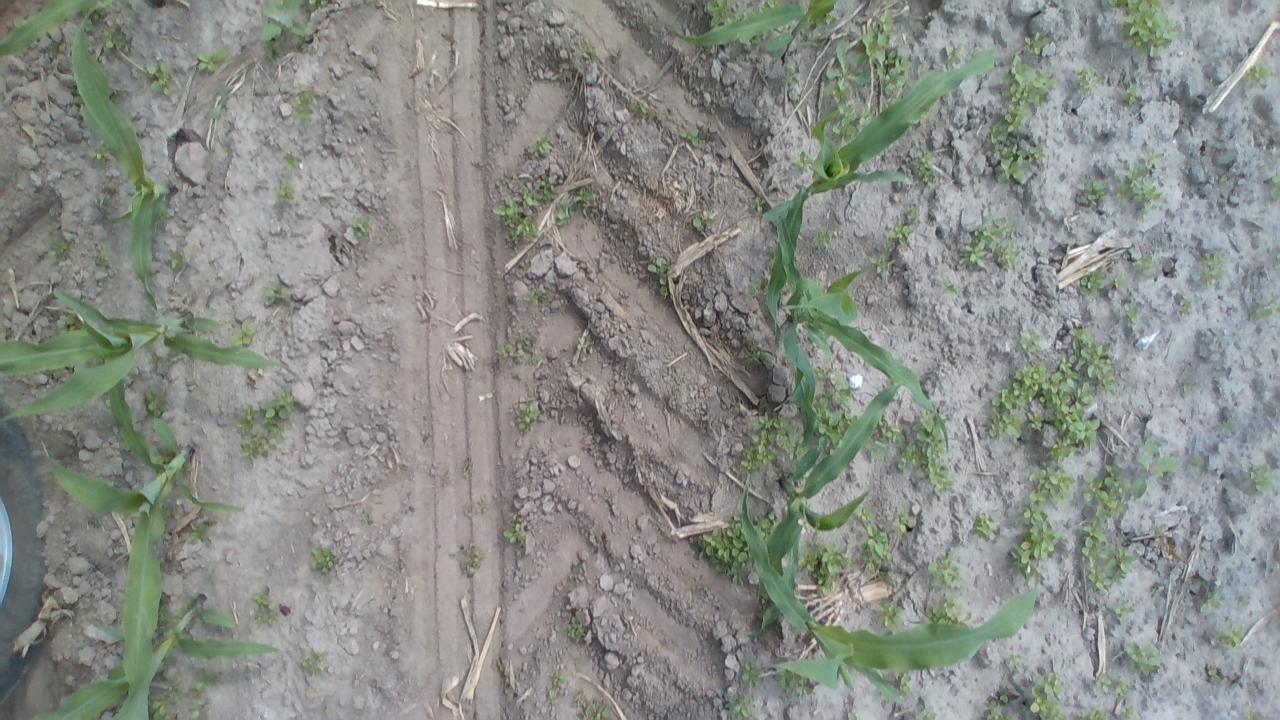Maize: (738, 470, 1038, 708), (766, 50, 995, 342), (44, 381, 245, 707), (773, 213, 951, 454), (746, 382, 902, 636), (1, 288, 280, 424), (32, 587, 284, 720), (71, 2, 173, 312), (661, 1, 836, 52), (0, 0, 104, 56)
Weeds: (989, 362, 1101, 574), (1080, 464, 1142, 596), (693, 512, 777, 584), (900, 415, 953, 490), (985, 110, 1049, 168), (982, 673, 1060, 720), (1068, 324, 1120, 391), (739, 414, 801, 468), (1001, 54, 1058, 110), (1132, 433, 1177, 498), (1124, 1, 1179, 49), (258, 0, 308, 51), (816, 376, 848, 452), (821, 40, 870, 89), (492, 195, 538, 246), (798, 543, 852, 586), (974, 219, 1018, 266), (1124, 158, 1162, 208), (858, 512, 892, 567), (863, 8, 893, 70), (829, 91, 866, 139), (1121, 641, 1164, 680), (238, 422, 278, 461), (1194, 248, 1229, 289), (880, 49, 910, 96), (558, 190, 596, 226), (928, 554, 964, 590), (250, 585, 278, 629), (926, 594, 964, 624), (145, 60, 175, 98), (866, 419, 896, 456), (646, 255, 670, 300), (574, 689, 610, 718), (262, 387, 293, 420), (1079, 176, 1109, 208), (1244, 462, 1272, 494), (458, 544, 484, 578), (1195, 587, 1224, 617), (144, 386, 170, 419), (1210, 623, 1244, 648), (1132, 254, 1162, 282), (996, 157, 1026, 185), (196, 46, 228, 72), (778, 672, 814, 695), (504, 512, 528, 546), (706, 1, 734, 30), (958, 243, 988, 270), (298, 649, 328, 675), (514, 401, 540, 431), (1020, 32, 1050, 58), (728, 690, 754, 720), (207, 84, 229, 118), (1248, 296, 1278, 320), (916, 153, 938, 185), (970, 510, 992, 542), (878, 601, 904, 628), (104, 26, 132, 51), (741, 658, 763, 688), (309, 548, 334, 574), (1244, 63, 1268, 90), (292, 90, 314, 119), (189, 694, 215, 718), (1079, 272, 1106, 295), (1109, 600, 1136, 623), (524, 138, 552, 160), (187, 520, 210, 546), (546, 674, 568, 701), (866, 253, 894, 274), (690, 212, 714, 236), (150, 698, 176, 720), (567, 618, 589, 644), (1021, 328, 1041, 356), (1076, 66, 1094, 96), (230, 323, 253, 346), (1124, 84, 1148, 106), (160, 681, 183, 703), (943, 44, 966, 66), (1120, 300, 1142, 323), (87, 142, 110, 164), (238, 407, 255, 436), (888, 670, 910, 692), (886, 225, 916, 241), (678, 128, 701, 148), (264, 284, 283, 307), (275, 181, 296, 201), (812, 229, 832, 250), (522, 190, 544, 208), (540, 180, 558, 202), (892, 514, 914, 531), (168, 251, 186, 271), (354, 216, 370, 238), (522, 288, 544, 304), (284, 150, 302, 169), (498, 342, 517, 360), (1094, 674, 1112, 693), (1084, 707, 1108, 720), (189, 678, 206, 696), (576, 339, 592, 357), (1176, 300, 1192, 318), (50, 238, 66, 256), (1269, 174, 1280, 200), (516, 334, 536, 348), (1110, 680, 1126, 696), (358, 509, 373, 525), (1120, 702, 1134, 718), (844, 412, 860, 423), (1030, 420, 1044, 431), (946, 281, 958, 293), (1112, 278, 1121, 290)
